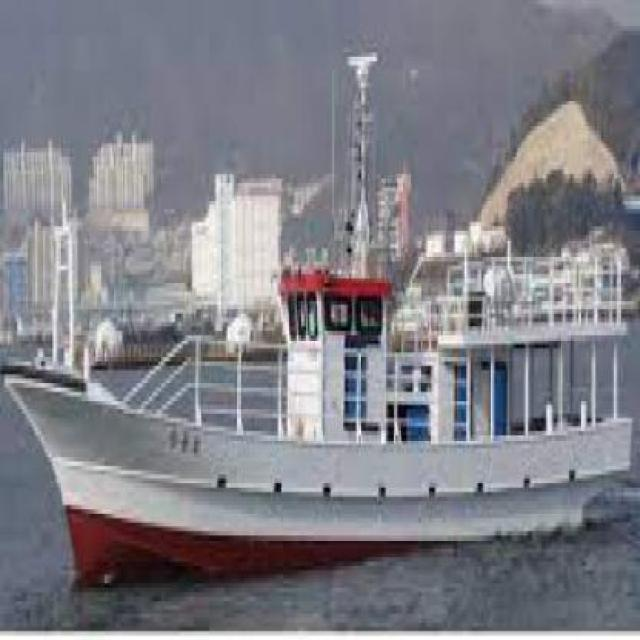fish-b: (1, 40, 639, 611)
